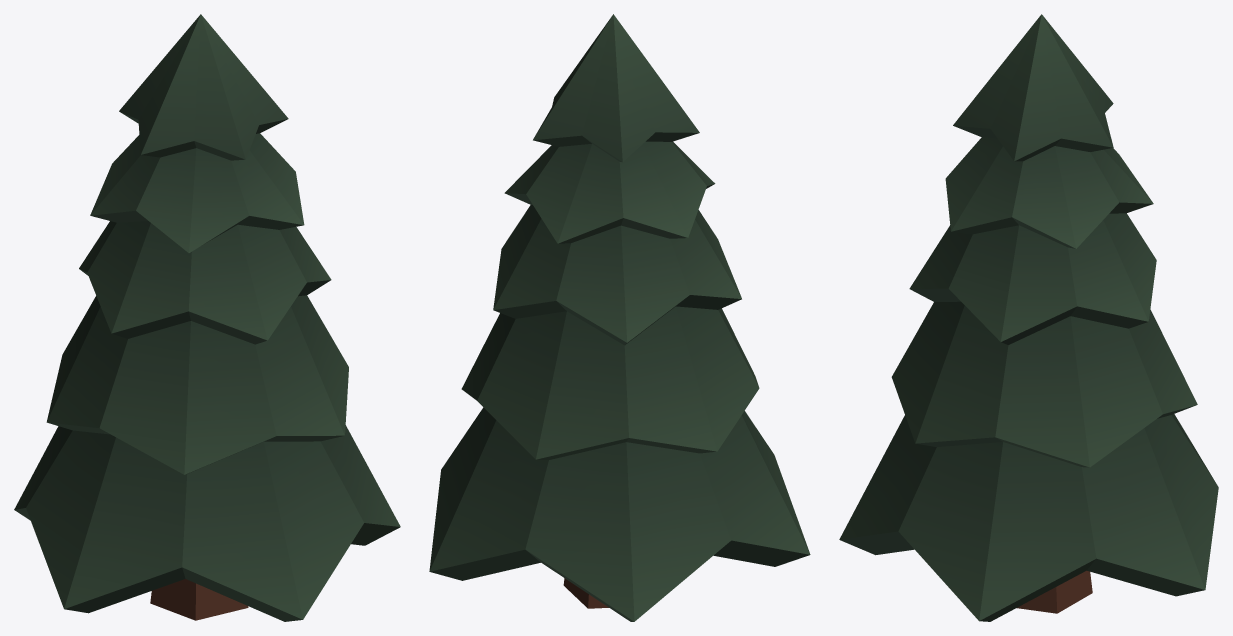
File: treeBigMedium.glb
The picture shows the model from 3 angles, left to right: view 1: azimuth 30°, elevation 25°; view 2: azimuth 150°, elevation 25°; view 3: azimuth 270°, elevation 25°; orthographic projection.
Parts seen in each view (by area): view 1: TreeBigMedium; view 2: TreeBigMedium; view 3: TreeBigMedium.
Boxes of the visible parts, x1=… form: TreeBigMedium: x1=14, y1=14, x2=400, y2=621; TreeBigMedium: x1=429, y1=14, x2=810, y2=621; TreeBigMedium: x1=839, y1=14, x2=1218, y2=621.
Size of what is drawn, in the model's own units: 2.61 by 4.33 by 2.57.
Materials: 1 (1 with a texture image).
